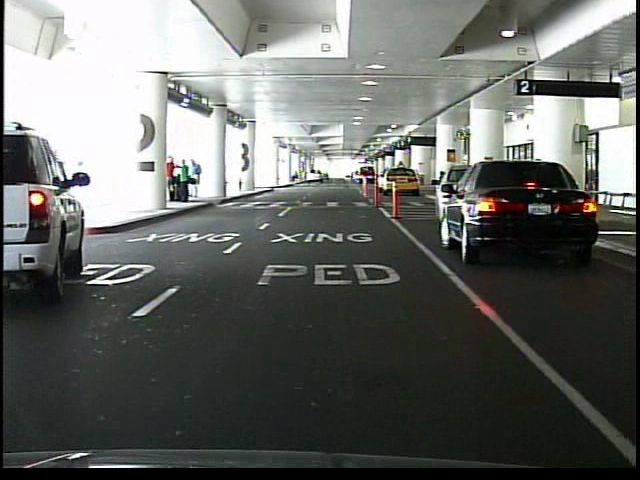person: (177, 160, 191, 204), (166, 155, 177, 204), (190, 159, 203, 200)
